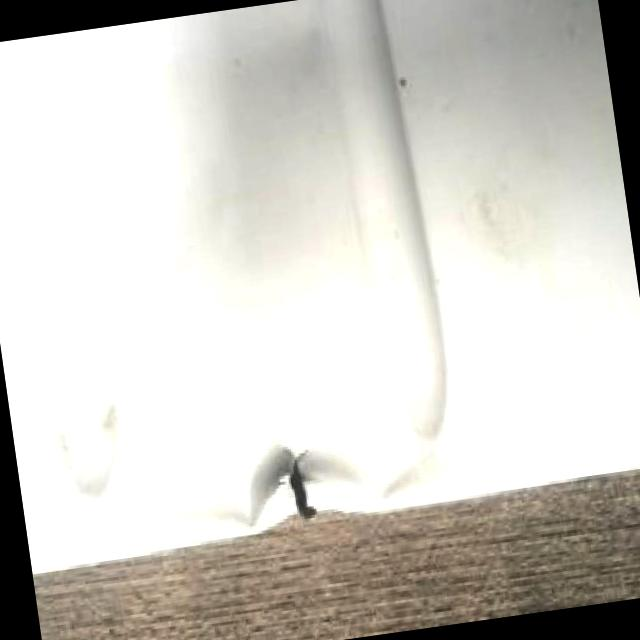crack: (265, 445, 332, 535)
